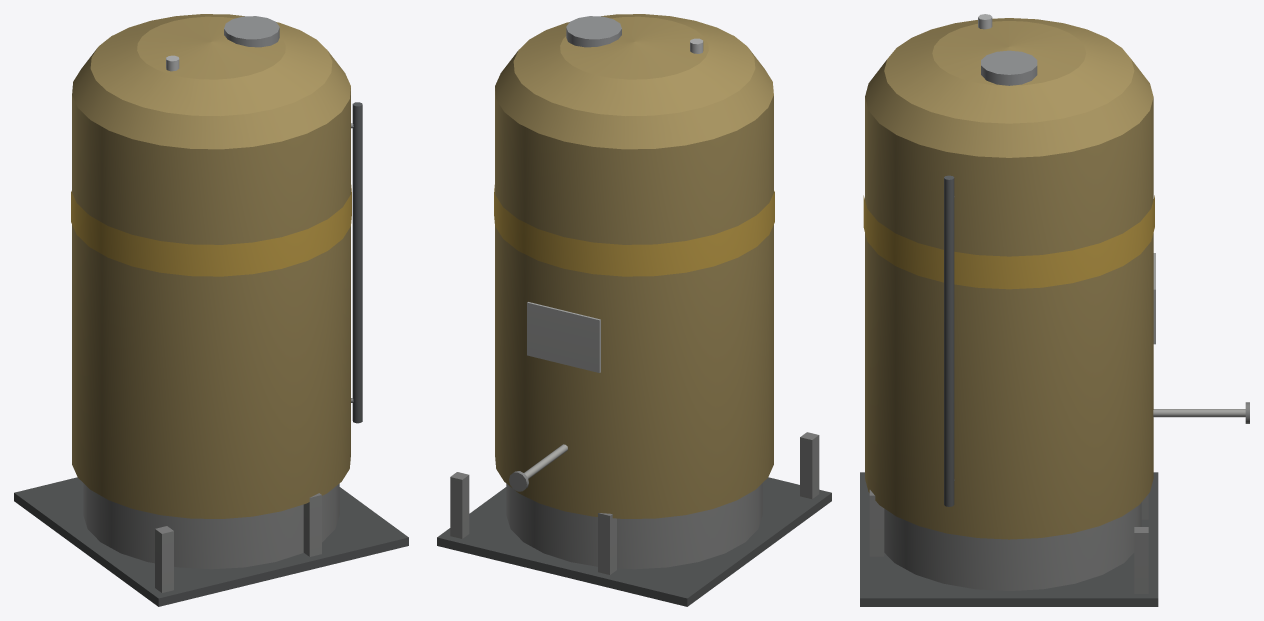
The model's file is flTankFuel_steel.glb.
3 renders of one model, left to right at view 1: azimuth 30°, elevation 25°; view 2: azimuth 150°, elevation 25°; view 3: azimuth 270°, elevation 25°, orthographic. The views are drawn at different scales.
Visible parts, largest first — view 1: flTankFuel_steel; view 2: flTankFuel_steel; view 3: flTankFuel_steel.
Part boxes in pixels (<box>): flTankFuel_steel: <box>14,14,408,606</box>; flTankFuel_steel: <box>437,14,831,606</box>; flTankFuel_steel: <box>860,14,1249,606</box>.
Size of the model in its own units: 1.24 by 2.3 by 1.62.
